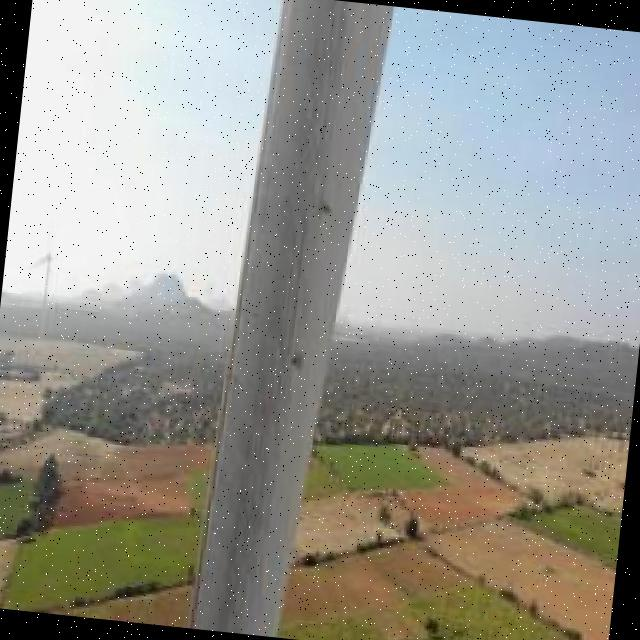Dirt: (199, 0, 354, 634)
Pin Hole: (289, 353, 304, 369), (322, 204, 332, 216)
